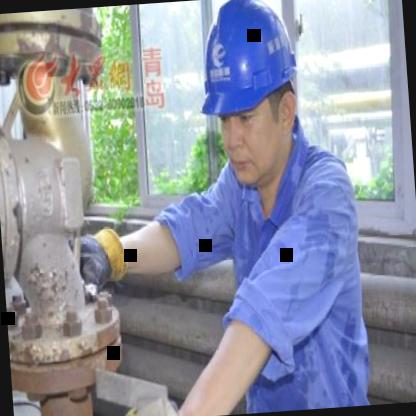helmet: (185, 0, 319, 198)
